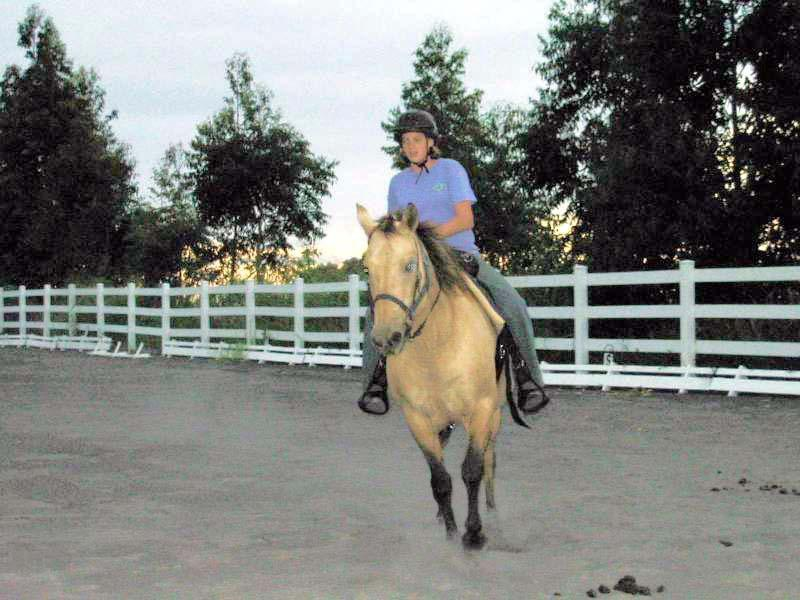person: (359, 108, 549, 415)
